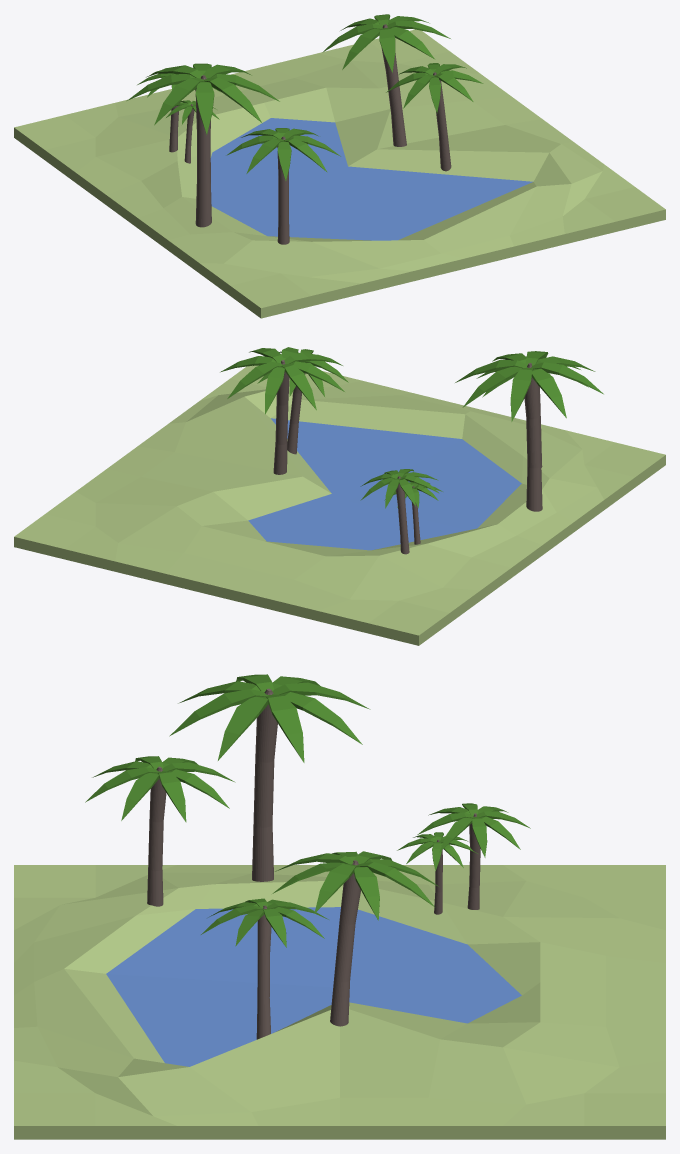
File: Oasis II.fbx
3 renders of one model, top to bottom at view 1: azimuth 30°, elevation 25°; view 2: azimuth 150°, elevation 25°; view 3: azimuth 270°, elevation 25°, orthographic. The views are drawn at different scales.
Parts seen in each view (by area): view 1: Oasis II; view 2: Oasis II; view 3: Oasis II.
Boxes of the visible parts, x1,y1,x2,y2 form: Oasis II: (14, 14, 665, 318); Oasis II: (14, 347, 665, 645); Oasis II: (14, 674, 665, 1139).
Bounding box in the file's own units: 1600 × 581 × 1600.
